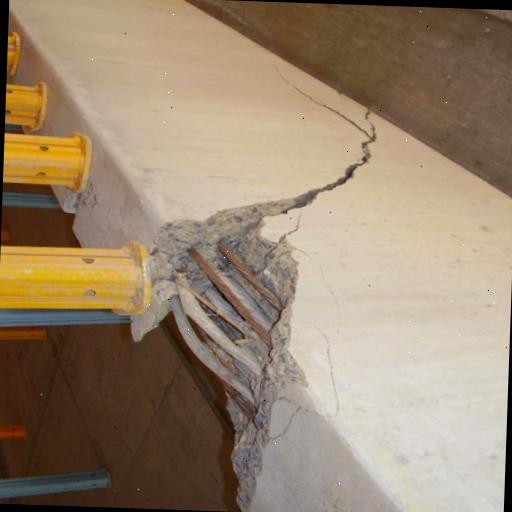spalling: (129, 187, 316, 512), (269, 60, 386, 207)
